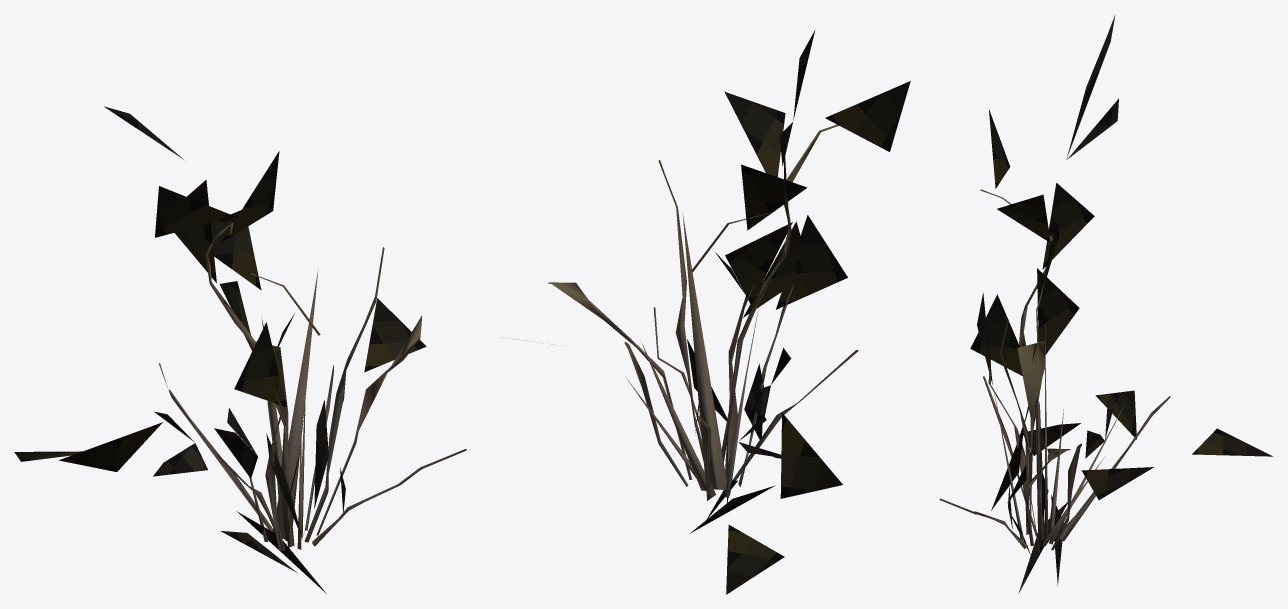
The model's file is cover_bush_far.glb.
3 renders of one model, left to right at view 1: azimuth 30°, elevation 25°; view 2: azimuth 150°, elevation 25°; view 3: azimuth 270°, elevation 25°, orthographic. The views are drawn at different scales.
Visible parts, largest first — view 1: cover_bush_far; view 2: cover_bush_far; view 3: cover_bush_far.
Boxes of the visible parts, x1,y1,x2,y2 form: cover_bush_far: (14,106,466,593); cover_bush_far: (505,30,910,594); cover_bush_far: (939,15,1272,593).
Bounding box in the file's own units: 0.4075 × 0.6512 × 0.3883.
Materials: 3 (3 with a texture image).
